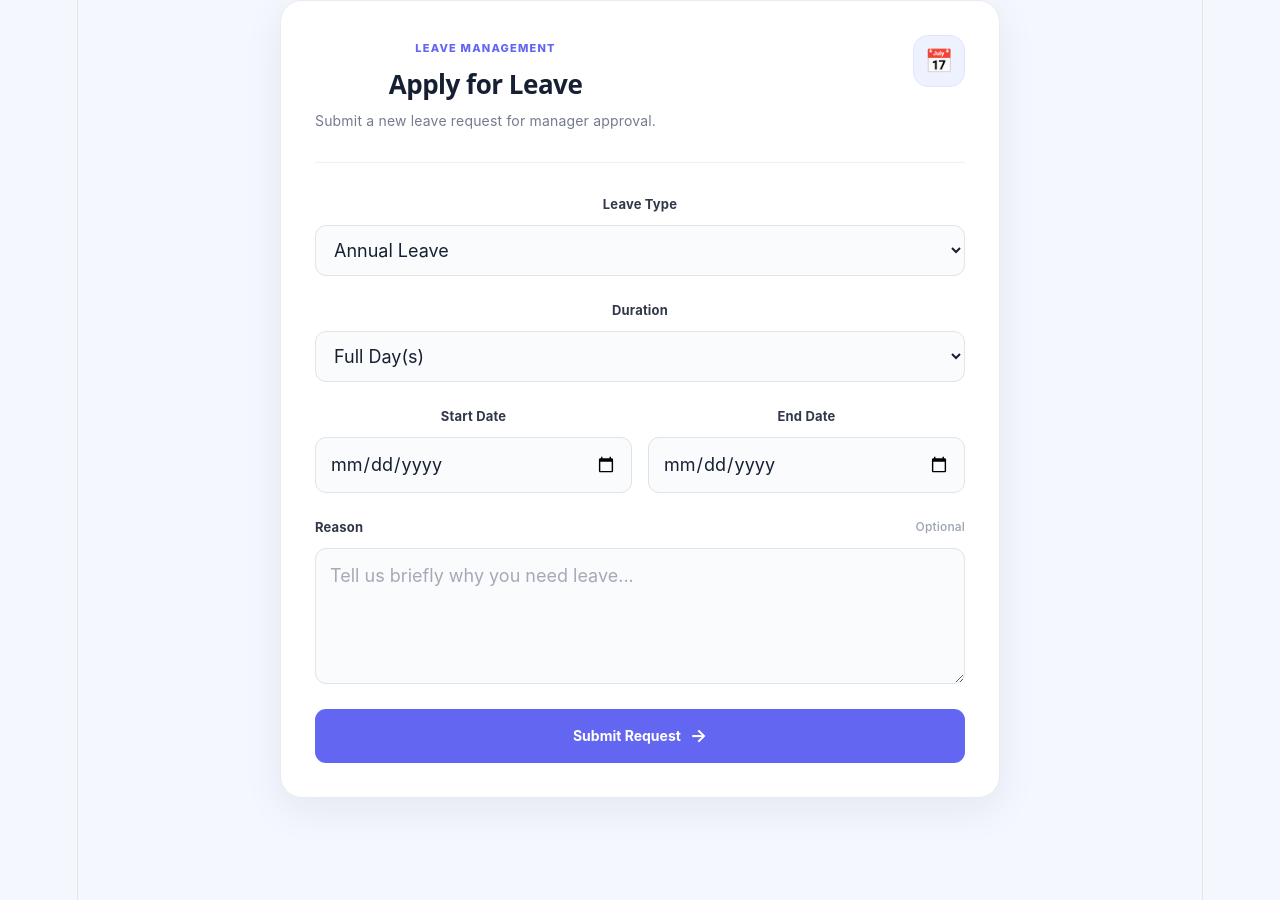
Test case: ApplyLeaveForm › blocks submission when the end date is before the start date
// Act — end date earlier than start date
Type "2026-07-10" into the date field labelled "Start Date" at (474, 465), box 315,437 -> 632,493
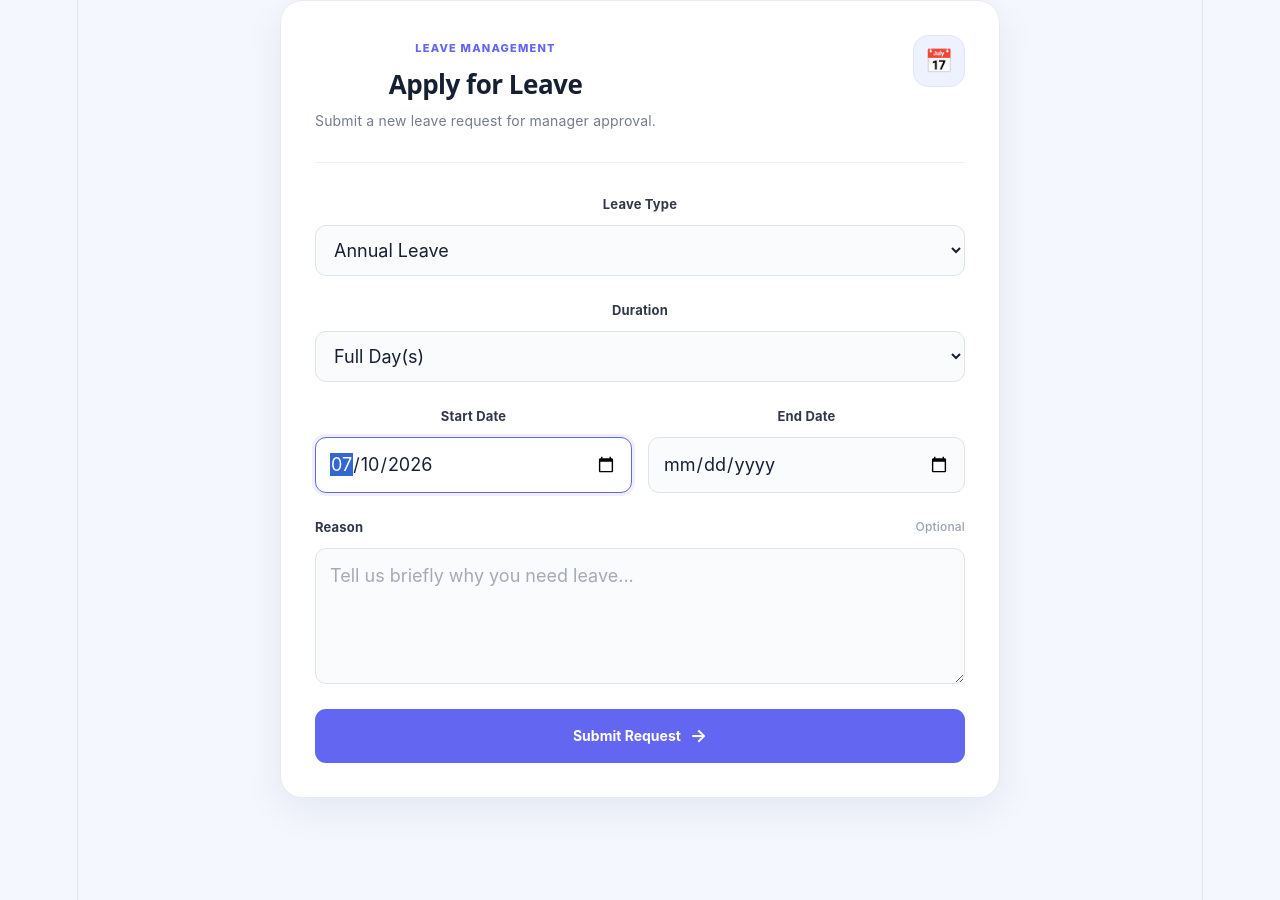
Type "2026-07-06" into the date field labelled "End Date" at (806, 465), box 648,437 -> 965,493
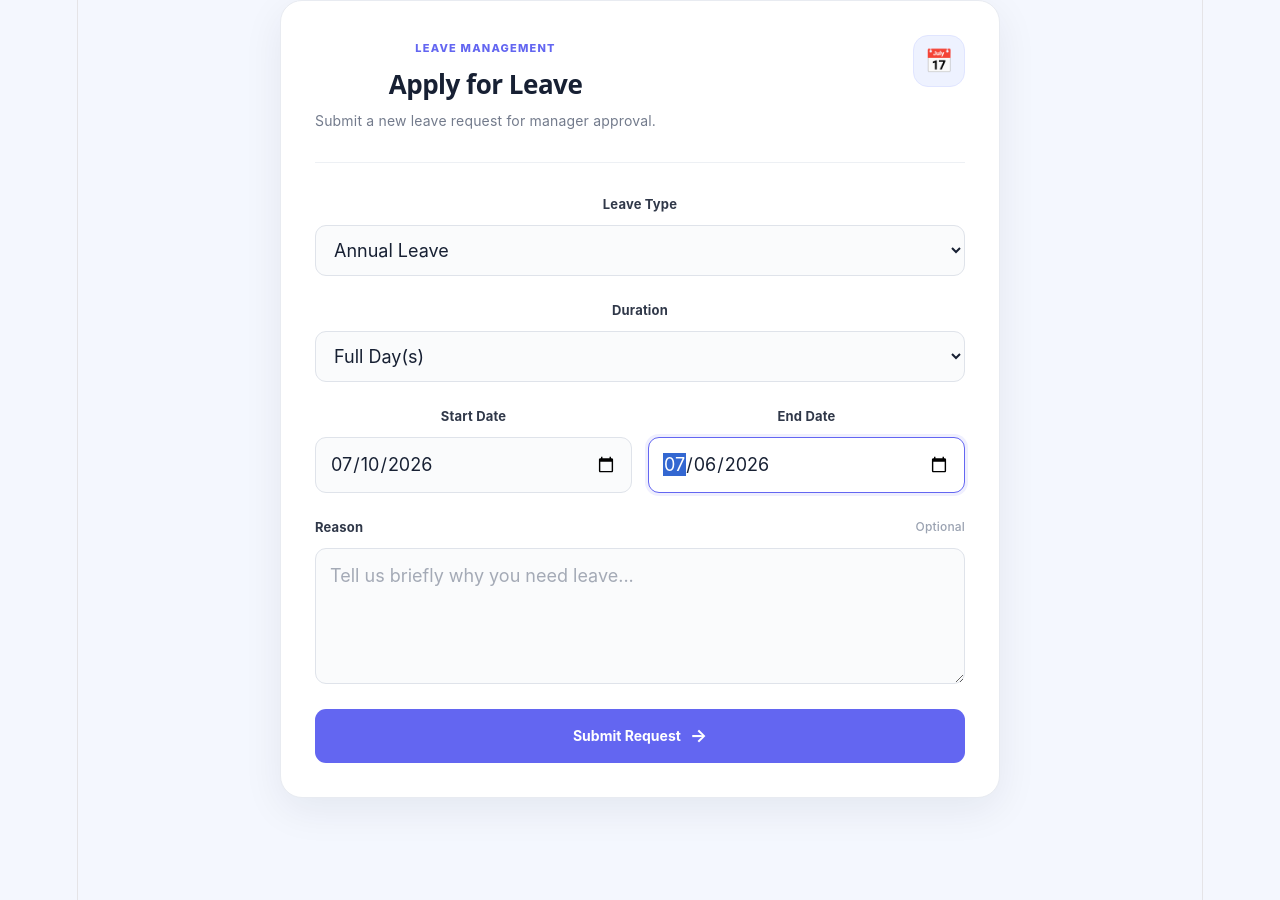
Click the button "Submit Request →" at (640, 736), box 315,709 -> 965,763
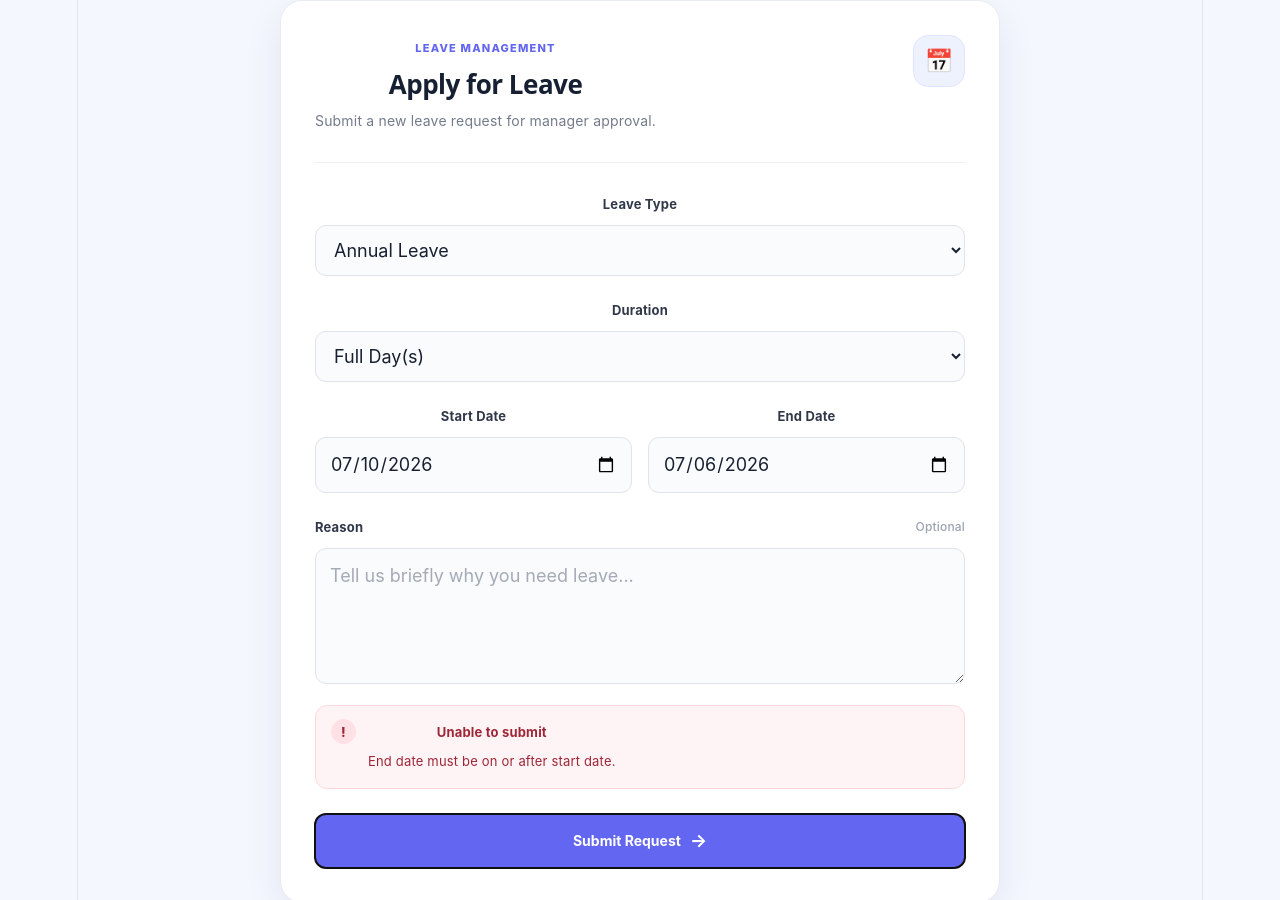
Check: the text "End date must be on or after start date." is shown, box 368,748 -> 616,774
